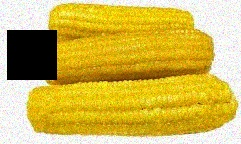corn: (23, 72, 240, 136), (42, 31, 214, 83), (48, 4, 195, 57)
